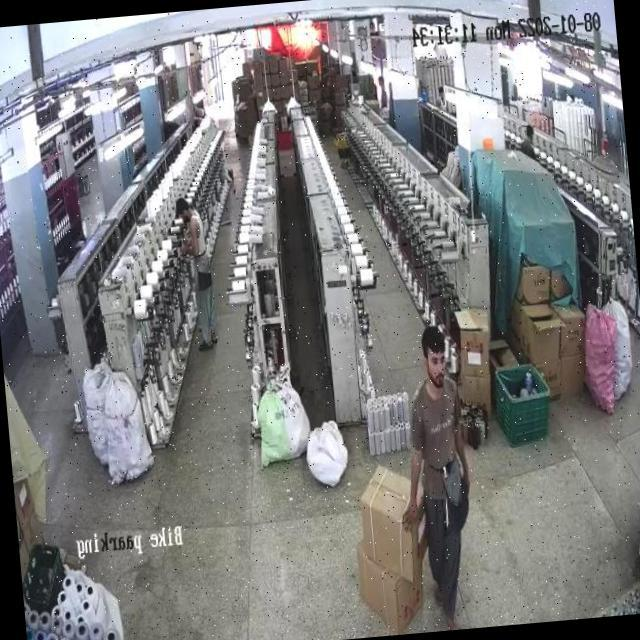person: (396, 326, 482, 628), (170, 179, 227, 388)
